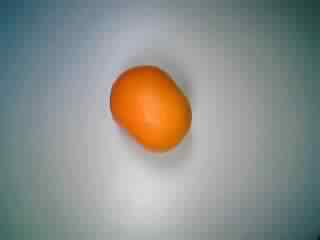orange: (104, 60, 195, 156)
